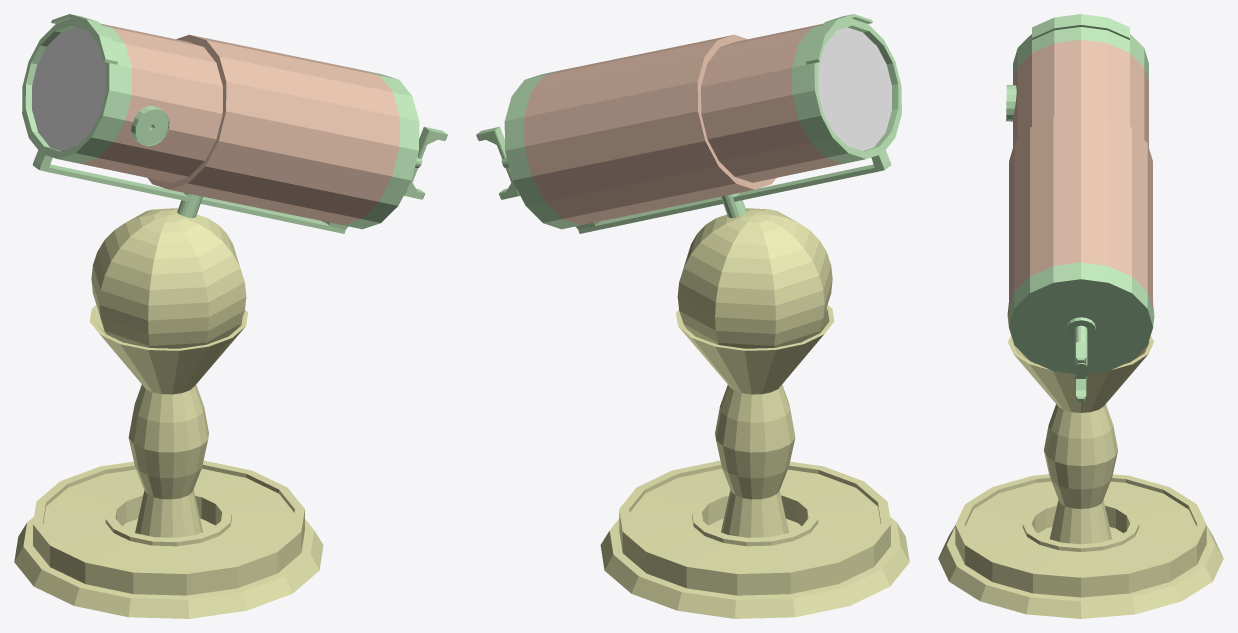
Rendered from Character_Rooms_Telescope.fbx.
3 views of the same model, side by side, from view 1: azimuth 30°, elevation 25°; view 2: azimuth 150°, elevation 25°; view 3: azimuth 270°, elevation 25° (orthographic). The views are drawn at different scales.
Parts seen in each view (by area): view 1: Cylinder.004, Cylinder.005; view 2: Cylinder.004, Cylinder.005; view 3: Cylinder.005, Cylinder.004.
Boxes of the visible parts, x1,y1,x2,y2 form: Cylinder.004: [14, 208, 323, 618]; Cylinder.005: [22, 14, 447, 233]; Cylinder.004: [600, 208, 909, 618]; Cylinder.005: [476, 14, 901, 233]; Cylinder.005: [1006, 14, 1152, 401]; Cylinder.004: [938, 303, 1223, 618].
Size of the model in its own units: 243 by 312 by 159.
